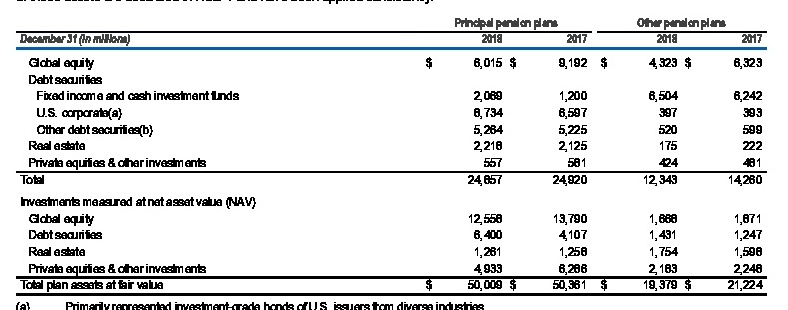table: (0, 0, 788, 310)
